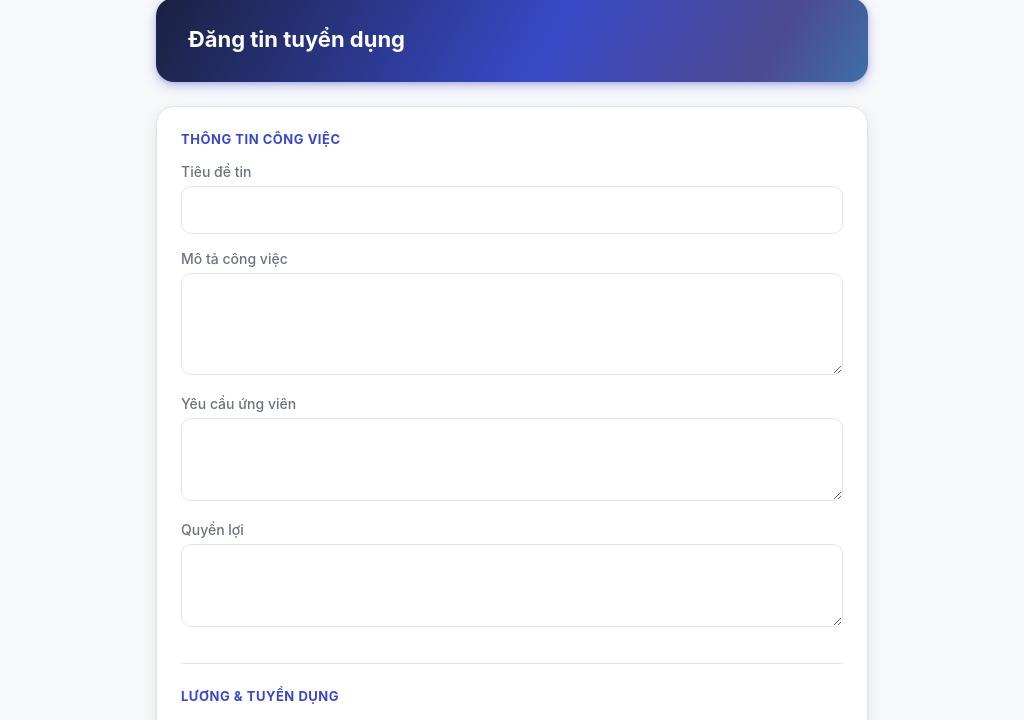
Test: PostJob - dang tin (QD09 han nop ho so) › shows the server's success message (MS05) on a valid submission
Type "Backend Dev" into the field. click: (512, 210)
box: [181,186,843,234]
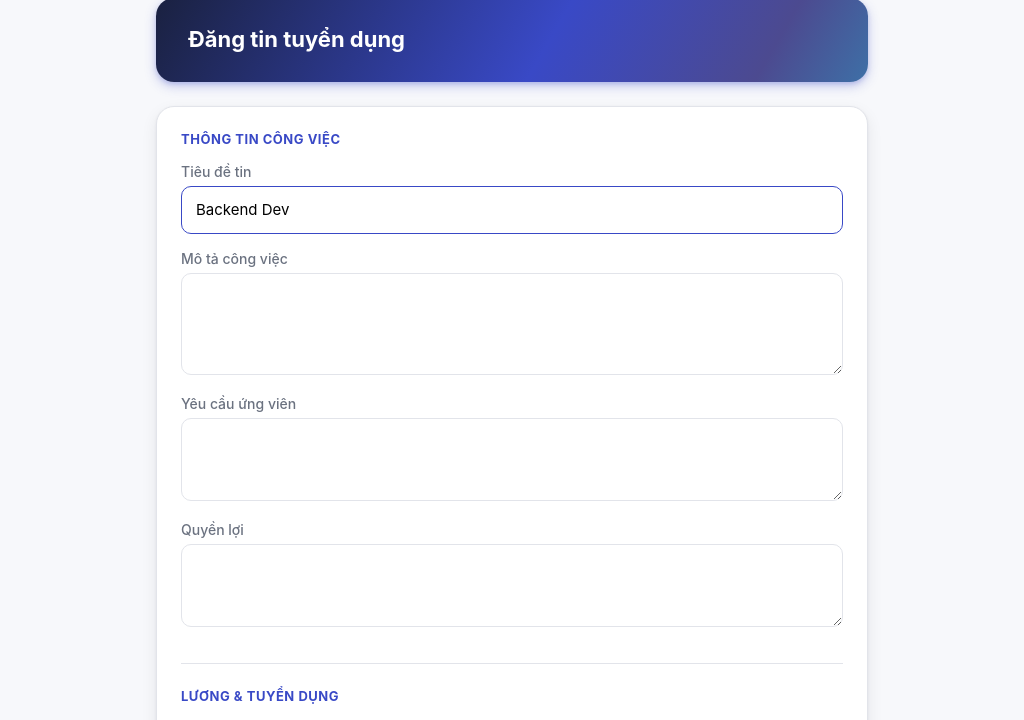
Type "Mo ta cong viec" into the text box below "Mô tả công việc". click: (512, 324)
box: [181,272,843,374]
(page scrolled)
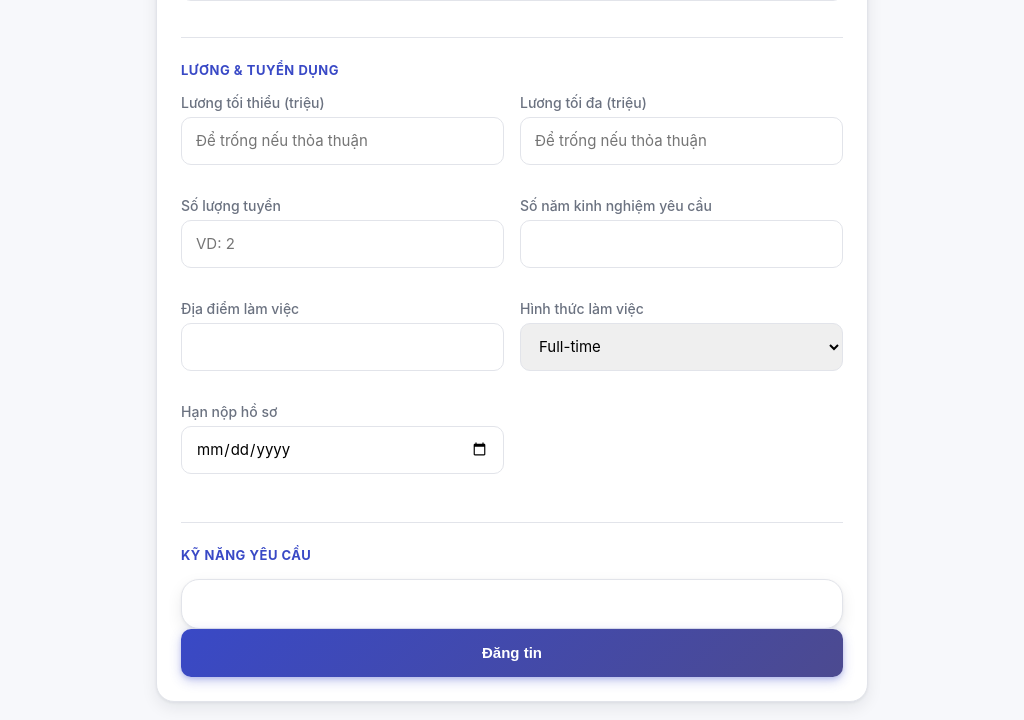
Type "2027-01-01" into the date field. click: (342, 450)
box: [181,426,504,474]
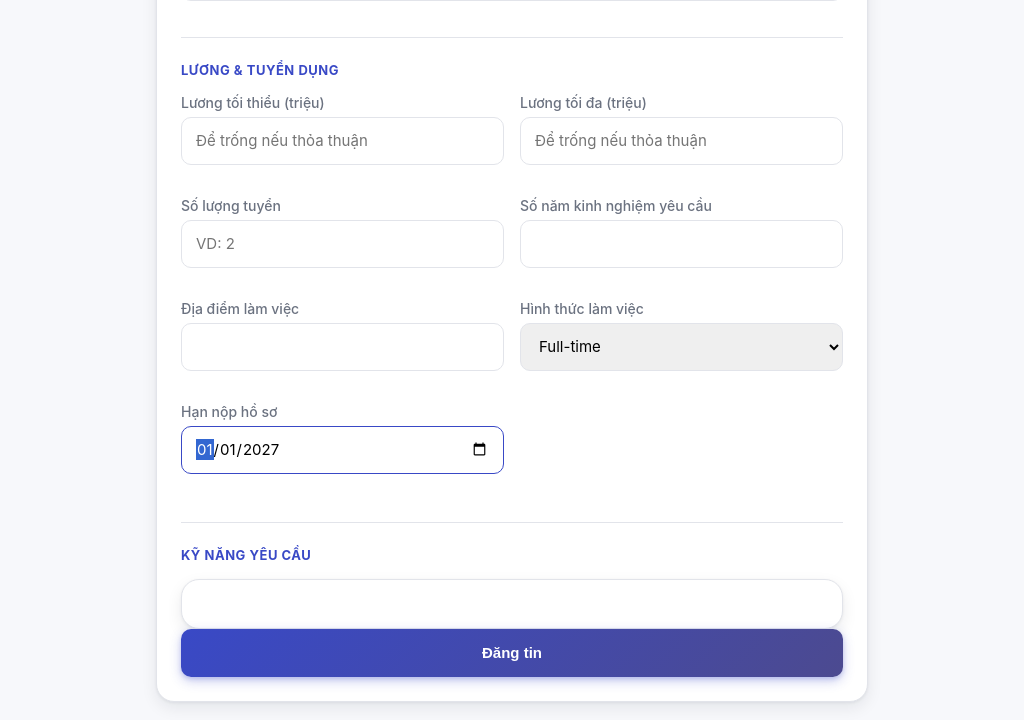
Click the button "Đăng tin". click: (512, 652)
box: [181,628,843,676]
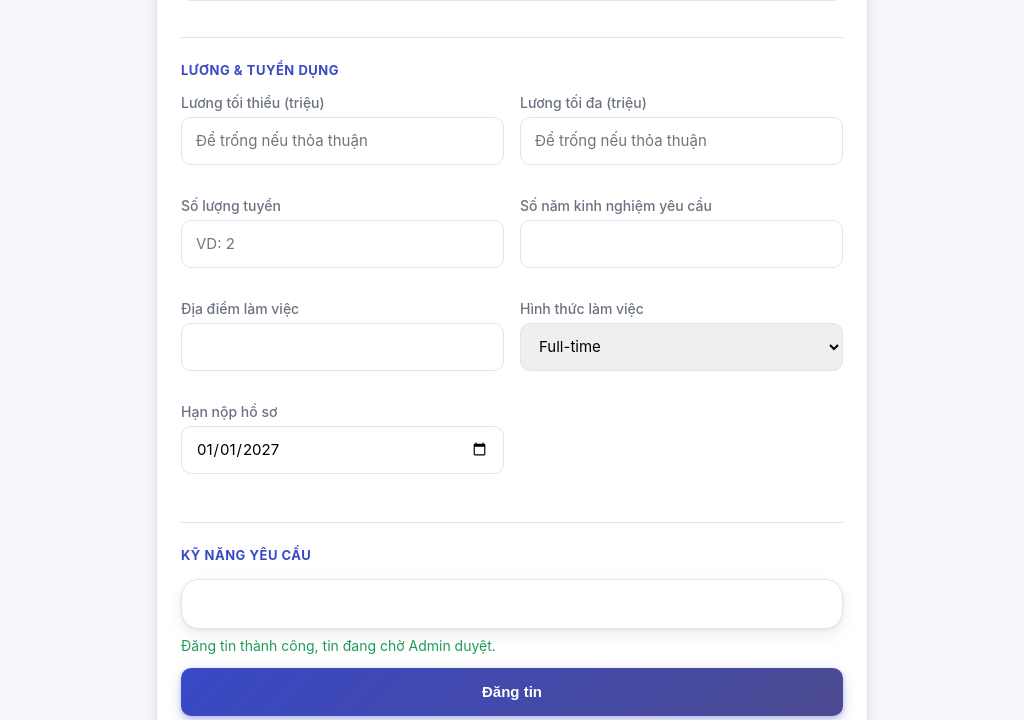
Now the text "Đăng tin thành công, tin đang chờ Admin duyệt." is shown, box [181,636,496,654]
